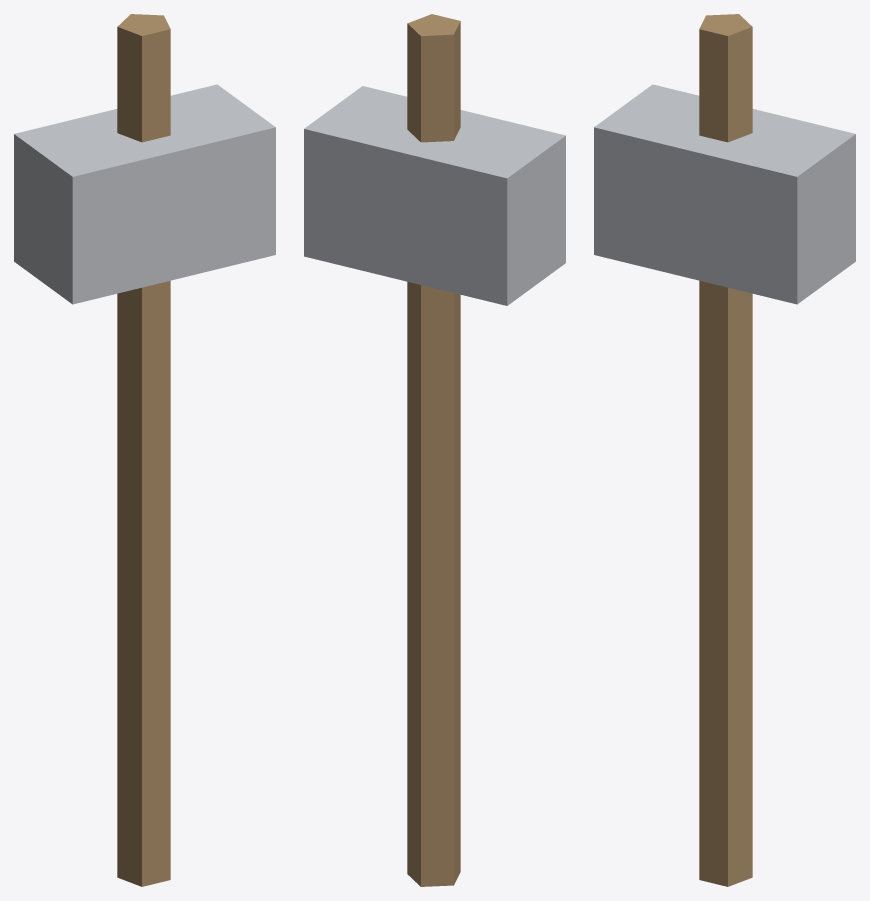
The model's file is axe_hammer_tool.glb.
The picture shows the model from 3 angles, left to right: view 1: azimuth 30°, elevation 25°; view 2: azimuth 150°, elevation 25°; view 3: azimuth 330°, elevation 25°; orthographic projection.
Parts seen in each view (by area): view 1: box, cyl; view 2: box, cyl; view 3: box, cyl.
Part boxes in pixels (<box>): box: <box>14,84,275,304</box>; cyl: <box>117,14,170,886</box>; box: <box>304,86,565,305</box>; cyl: <box>407,14,460,886</box>; box: <box>594,84,855,304</box>; cyl: <box>699,14,752,886</box>.
Size of the model in its own units: 0.1 by 0.4 by 0.05.
